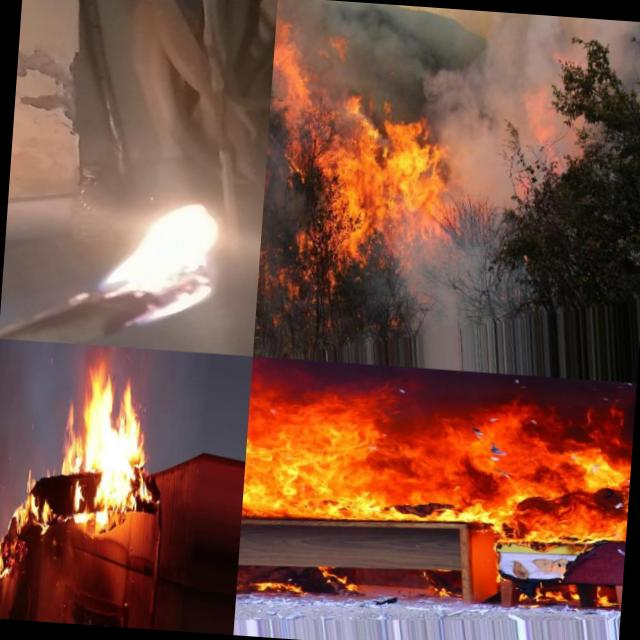fire: (240, 368, 636, 550), (262, 23, 442, 248), (47, 160, 254, 348), (56, 358, 162, 531), (10, 457, 56, 531), (0, 532, 12, 582)
smoke: (431, 8, 571, 198), (394, 234, 525, 326)
